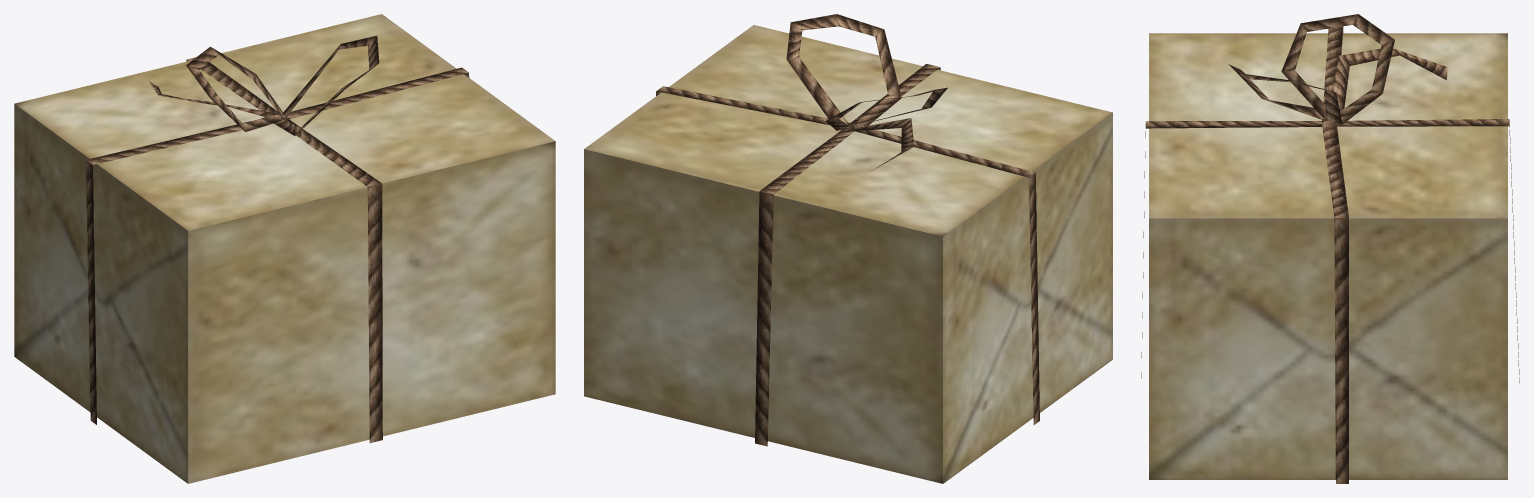
File: pir_m_prp_hol_decoGift03_winter08.fbx
The picture shows the model from 3 angles, left to right: view 1: azimuth 30°, elevation 25°; view 2: azimuth 150°, elevation 25°; view 3: azimuth 270°, elevation 25°; orthographic projection. The views are drawn at different scales.
Visible parts, largest first — view 1: giftbox, rope1, rope, rope3, rope2; view 2: giftbox, rope1, rope, rope2, rope4, rope3; view 3: giftbox, rope, rope3, rope1, rope4, rope2.
Part boxes in pixels (left/top/right/bottom): giftbox: left=14, top=14, right=555, bottom=483; rope1: left=186, top=57, right=382, bottom=442; rope: left=85, top=67, right=469, bottom=424; rope3: left=186, top=46, right=283, bottom=131; rope2: left=274, top=35, right=379, bottom=135; giftbox: left=584, top=25, right=1112, bottom=483; rope1: left=755, top=64, right=940, bottom=446; rope: left=656, top=86, right=1039, bottom=424; rope2: left=786, top=14, right=901, bottom=126; rope4: left=842, top=118, right=914, bottom=171; rope3: left=825, top=87, right=947, bottom=130; giftbox: left=1149, top=33, right=1507, bottom=479; rope: left=1322, top=26, right=1348, bottom=483; rope3: left=1281, top=14, right=1394, bottom=124; rope1: left=1141, top=119, right=1519, bottom=383; rope4: left=1332, top=48, right=1447, bottom=111; rope2: left=1228, top=64, right=1342, bottom=124.
Bounding box in the file's own units: 153 × 127 × 126.
Materials: 1 (1 with a texture image).
